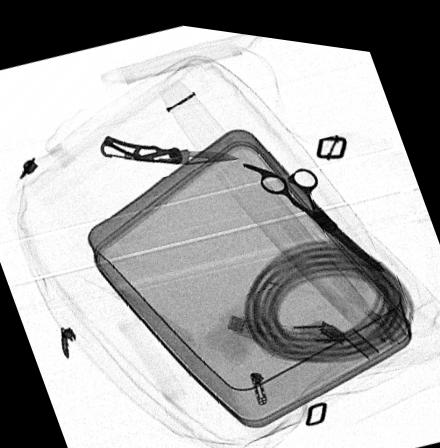Knife: (98, 132, 239, 158)
Scissors: (240, 154, 382, 260)
